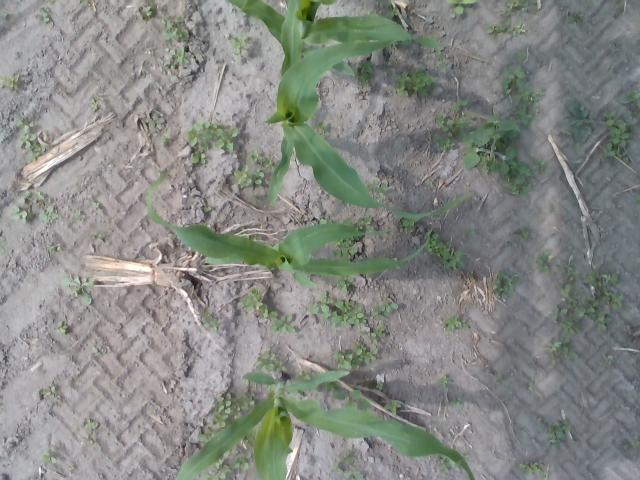Maize: (264, 0, 470, 222), (171, 361, 475, 480), (144, 170, 432, 288), (223, 0, 448, 79)
Weeds: (460, 113, 536, 197), (580, 268, 624, 331), (600, 110, 639, 164), (560, 98, 596, 152), (434, 98, 475, 143), (185, 120, 239, 152), (424, 232, 466, 270), (395, 66, 437, 100), (14, 118, 46, 162), (212, 392, 242, 428), (516, 87, 545, 124), (61, 276, 94, 306), (330, 300, 368, 326), (332, 389, 373, 412), (332, 235, 362, 263), (547, 338, 578, 364), (501, 63, 524, 98), (493, 270, 519, 300), (254, 348, 286, 372), (159, 16, 189, 41), (309, 290, 334, 319), (547, 419, 572, 448), (502, 0, 538, 20), (556, 283, 580, 310), (247, 147, 275, 170), (353, 341, 377, 366), (202, 460, 232, 480), (352, 59, 376, 84), (359, 324, 386, 346), (163, 48, 190, 70), (372, 300, 398, 322), (487, 21, 525, 36), (238, 288, 263, 310), (342, 215, 374, 232), (534, 249, 554, 276), (230, 34, 250, 60), (270, 314, 296, 334), (331, 350, 357, 370), (8, 205, 34, 224), (238, 380, 255, 409), (198, 309, 220, 331), (232, 165, 252, 189), (440, 455, 469, 471), (444, 314, 469, 332), (447, 0, 477, 15), (560, 312, 580, 334), (232, 451, 252, 472), (378, 0, 399, 20), (516, 460, 544, 474), (17, 190, 45, 204), (335, 274, 354, 294), (40, 446, 59, 465), (550, 304, 570, 322), (38, 206, 58, 224), (371, 178, 388, 199), (433, 136, 455, 150), (34, 6, 51, 24), (0, 73, 18, 90), (88, 94, 105, 111), (624, 88, 640, 106), (258, 304, 278, 318), (322, 378, 342, 392), (198, 428, 215, 444), (140, 4, 157, 20), (340, 448, 356, 465), (402, 218, 418, 235), (384, 400, 402, 415), (515, 227, 531, 243), (532, 158, 548, 174), (242, 428, 257, 444), (436, 374, 451, 390), (387, 256, 402, 271), (250, 168, 264, 184), (244, 228, 260, 242), (190, 150, 206, 164), (346, 468, 364, 480), (146, 114, 164, 126), (563, 264, 578, 278), (55, 320, 68, 336), (40, 386, 57, 398), (295, 368, 310, 381), (598, 354, 614, 366), (314, 120, 329, 132), (568, 12, 582, 24), (332, 462, 344, 474), (449, 396, 462, 406), (160, 132, 170, 145), (46, 244, 62, 252), (90, 233, 104, 242), (495, 373, 506, 384), (74, 211, 86, 221), (524, 380, 534, 392), (516, 50, 527, 60), (84, 419, 96, 428), (0, 8, 9, 20), (318, 218, 332, 225), (263, 383, 275, 391), (202, 205, 212, 214), (228, 447, 240, 454), (309, 386, 319, 394), (91, 200, 99, 210), (295, 390, 304, 398), (375, 381, 383, 390), (401, 39, 410, 47), (634, 193, 640, 205), (466, 228, 476, 235), (634, 440, 640, 451), (91, 346, 99, 354), (468, 270, 475, 278), (0, 246, 6, 255), (166, 173, 171, 178), (0, 236, 4, 242), (49, 0, 55, 3)
